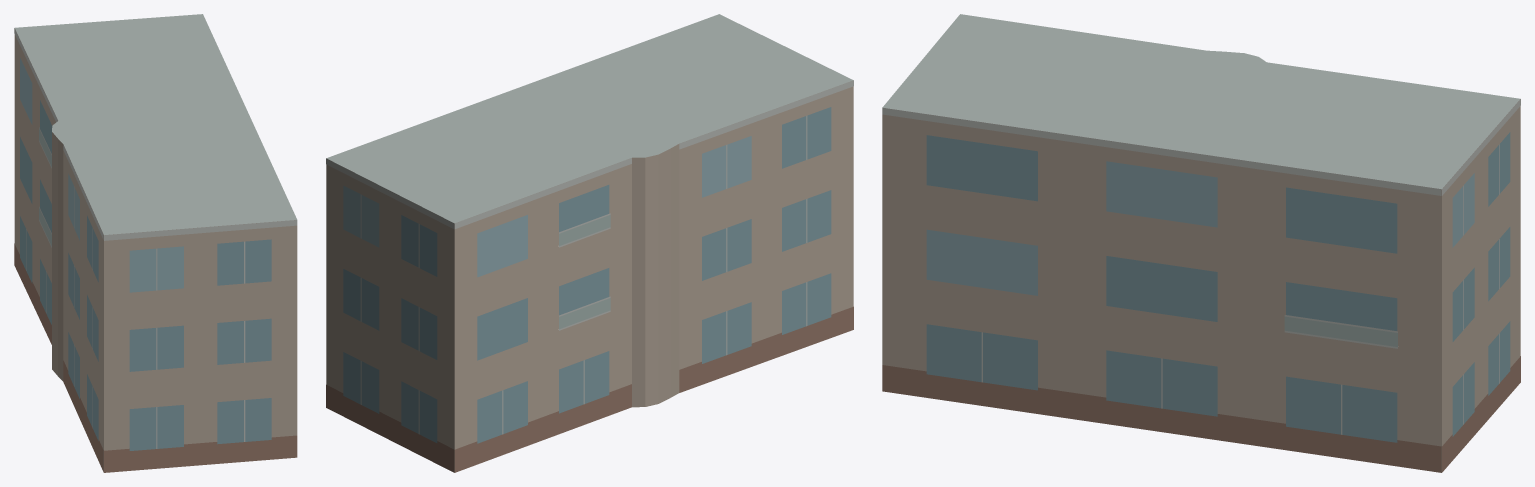
File: survey-upis-32884275.glb
The picture shows the model from 3 angles, left to right: view 1: azimuth 30°, elevation 25°; view 2: azimuth 150°, elevation 25°; view 3: azimuth 270°, elevation 25°; orthographic projection. The views are drawn at different scales.
Parts seen in each view (by area): view 1: survey-upis-32884275.tmp; view 2: survey-upis-32884275.tmp; view 3: survey-upis-32884275.tmp.
Boxes of the visible parts, x1,y1,x2,y2 form: survey-upis-32884275.tmp: (14,14,297,472); survey-upis-32884275.tmp: (326,14,853,472); survey-upis-32884275.tmp: (882,14,1520,472).
Bounding box in the file's own units: 13.39 × 10.1 × 20.61.
